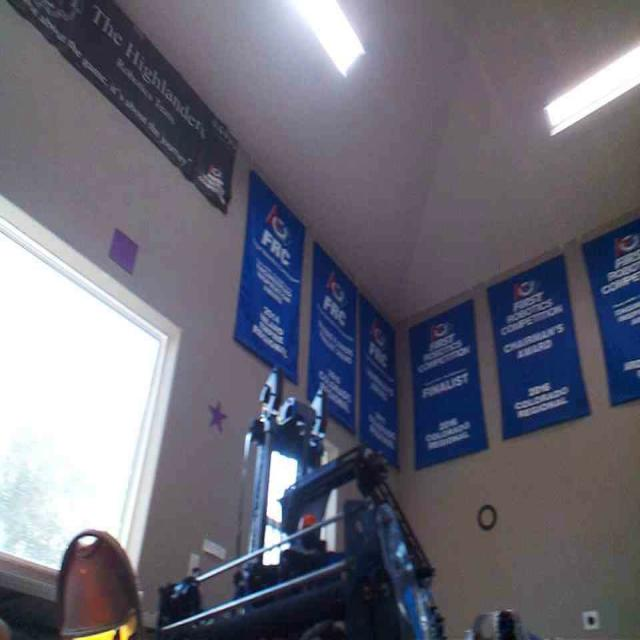ring_black: (476, 501, 498, 531)
square_purple: (107, 228, 139, 273)
star_purple: (206, 401, 226, 432)
